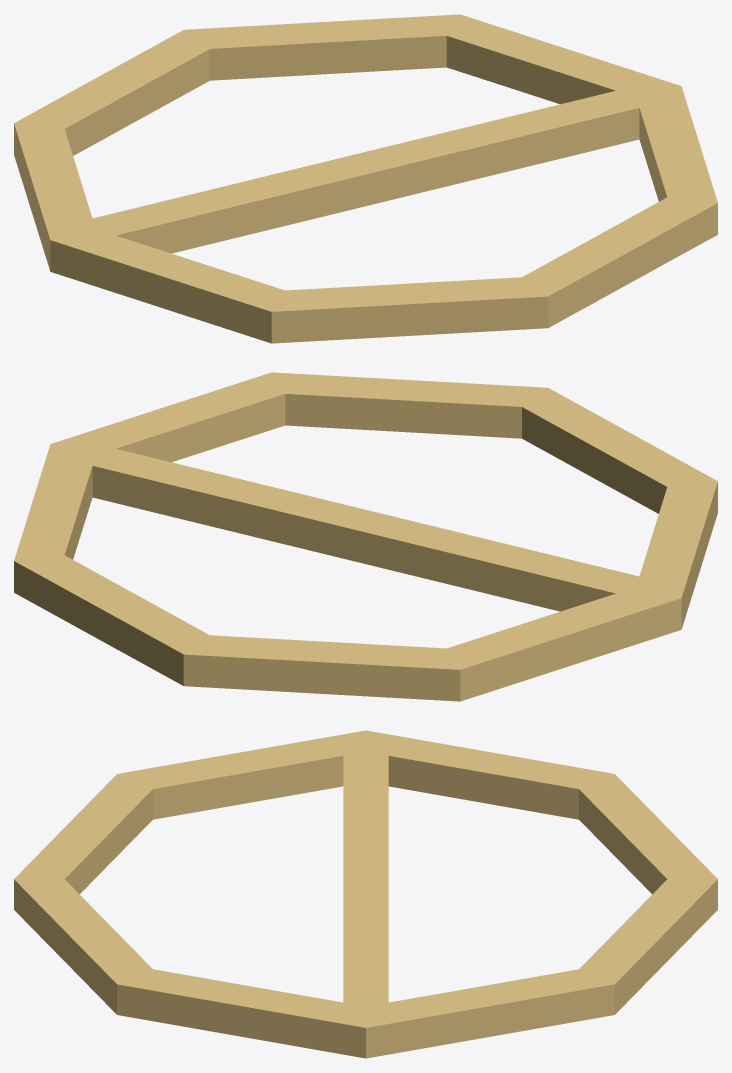
The model's file is prop-watch-balance-blank.fbx.
The picture shows the model from 3 angles, top to bottom: view 1: azimuth 30°, elevation 25°; view 2: azimuth 150°, elevation 25°; view 3: azimuth 270°, elevation 25°; orthographic projection. The views are drawn at different scales.
Visible parts, largest first — view 1: prop-watch-balance-blank; view 2: prop-watch-balance-blank; view 3: prop-watch-balance-blank.
Boxes of the visible parts, x1,y1,x2,y2 form: prop-watch-balance-blank: [14, 14, 717, 343]; prop-watch-balance-blank: [14, 372, 717, 701]; prop-watch-balance-blank: [14, 730, 717, 1058].
Bounding box in the file's own units: 2.5 × 0.12 × 2.5.
